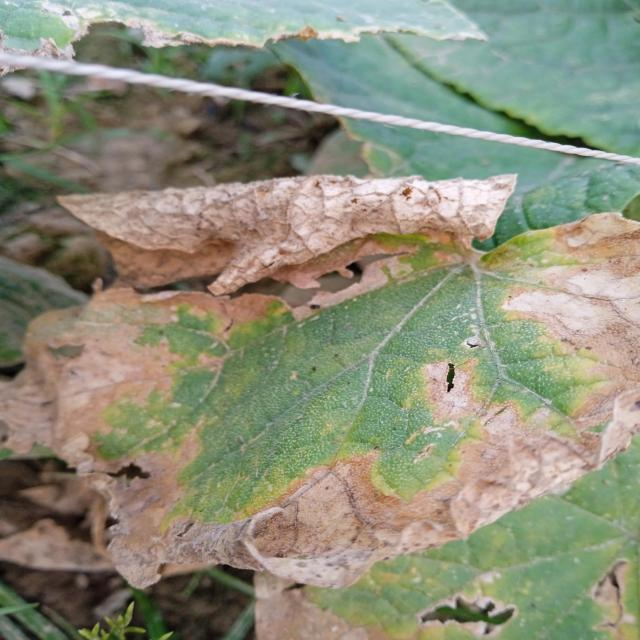cucumber_gummy: (0, 172, 640, 597), (237, 469, 640, 640), (0, 0, 508, 67)
